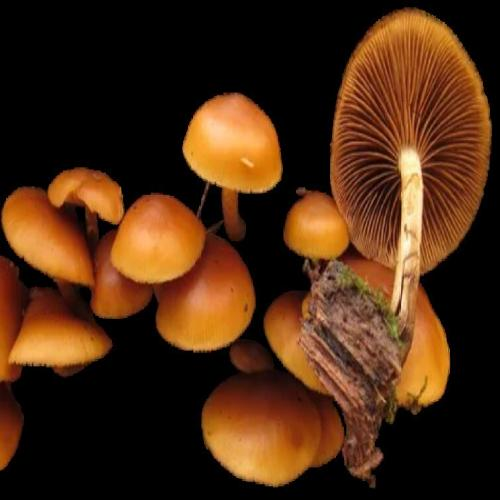Funeral Bell: (317, 4, 500, 327), (134, 228, 280, 374), (161, 78, 305, 226), (196, 367, 326, 492), (0, 175, 116, 307), (98, 180, 218, 302), (61, 228, 159, 332), (9, 284, 117, 375), (266, 181, 364, 279), (39, 151, 137, 245), (393, 284, 462, 413), (258, 288, 328, 403), (337, 239, 406, 302)
